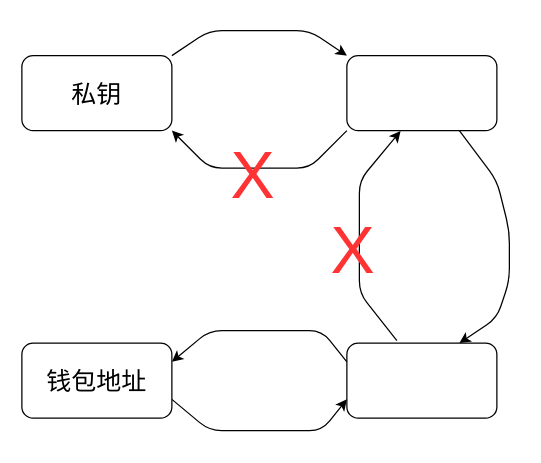
Some shapes in this 541 by 463 pixel diagram are drawn without their labels. Here are the shapes that lost their labels. From the top down, the centre of each, then its label:
At point (421, 92): "公钥".
At point (421, 380): "公钥哈希".
